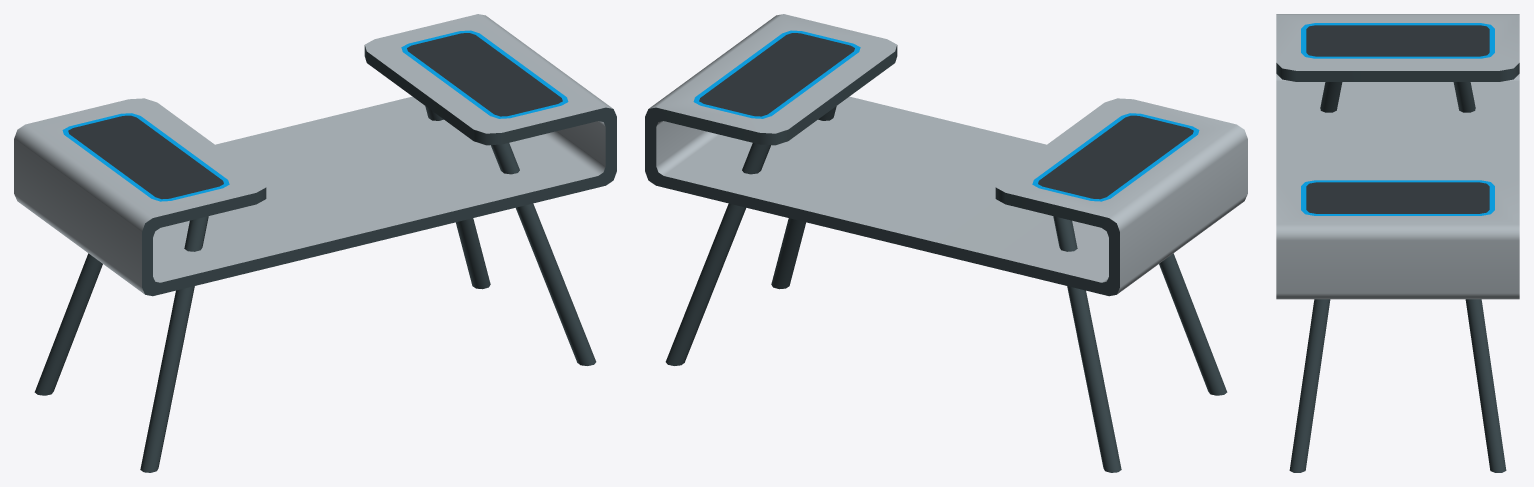
File: Desk_032.glb
3 renders of one model, left to right at view 1: azimuth 30°, elevation 25°; view 2: azimuth 150°, elevation 25°; view 3: azimuth 270°, elevation 25°, orthographic. The views are drawn at different scales.
Visible parts, largest first — view 1: Desk_032; view 2: Desk_032; view 3: Desk_032.
Part boxes in pixels (left/top/right/bottom): Desk_032: left=14, top=14, right=616, bottom=472; Desk_032: left=645, top=14, right=1247, bottom=472; Desk_032: left=1276, top=14, right=1519, bottom=472.
Bounding box in the file's own units: 2.24 × 1.18 × 1.04.
Materials: 2 (2 with a texture image).
